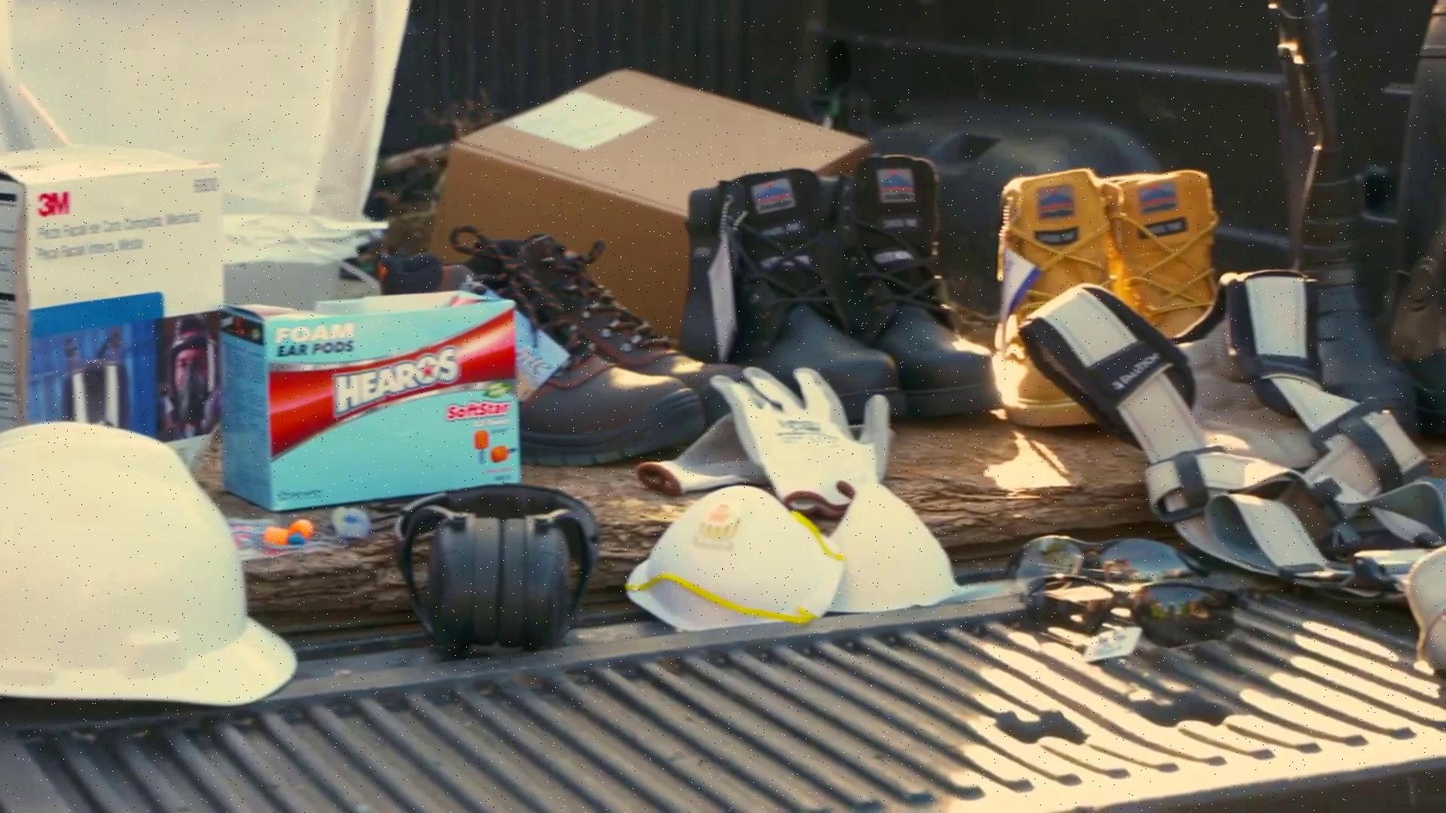Hard_hat: (0, 416, 288, 688)
